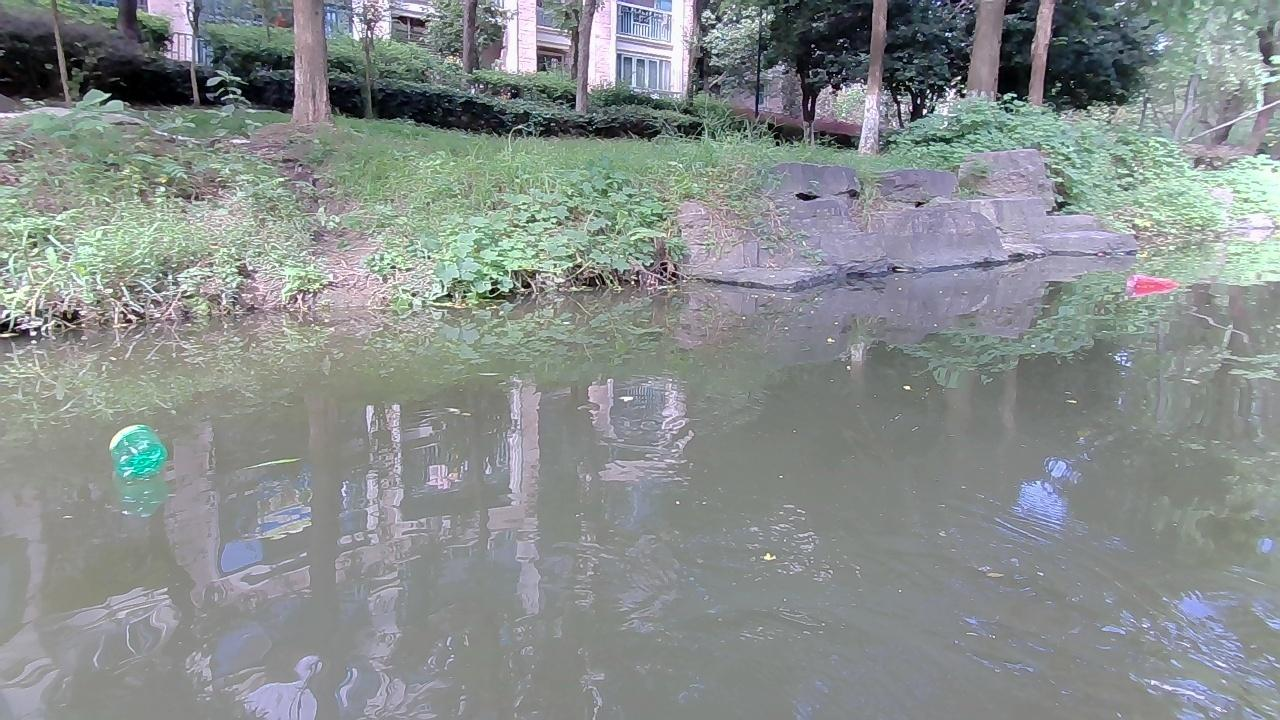bottle: (101, 422, 169, 483), (1121, 272, 1184, 298)
